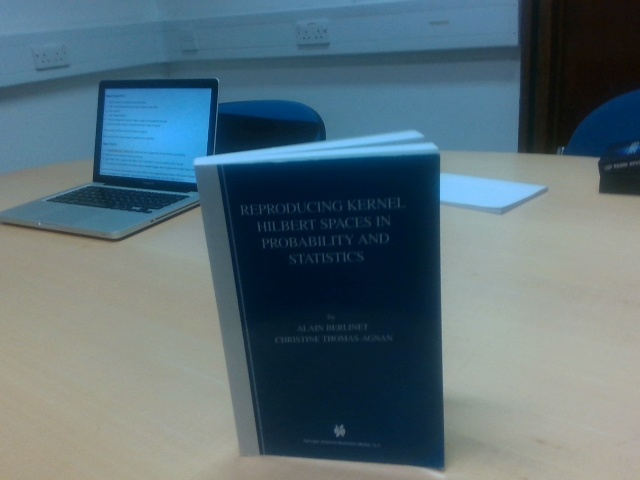book: (195, 164, 443, 472)
